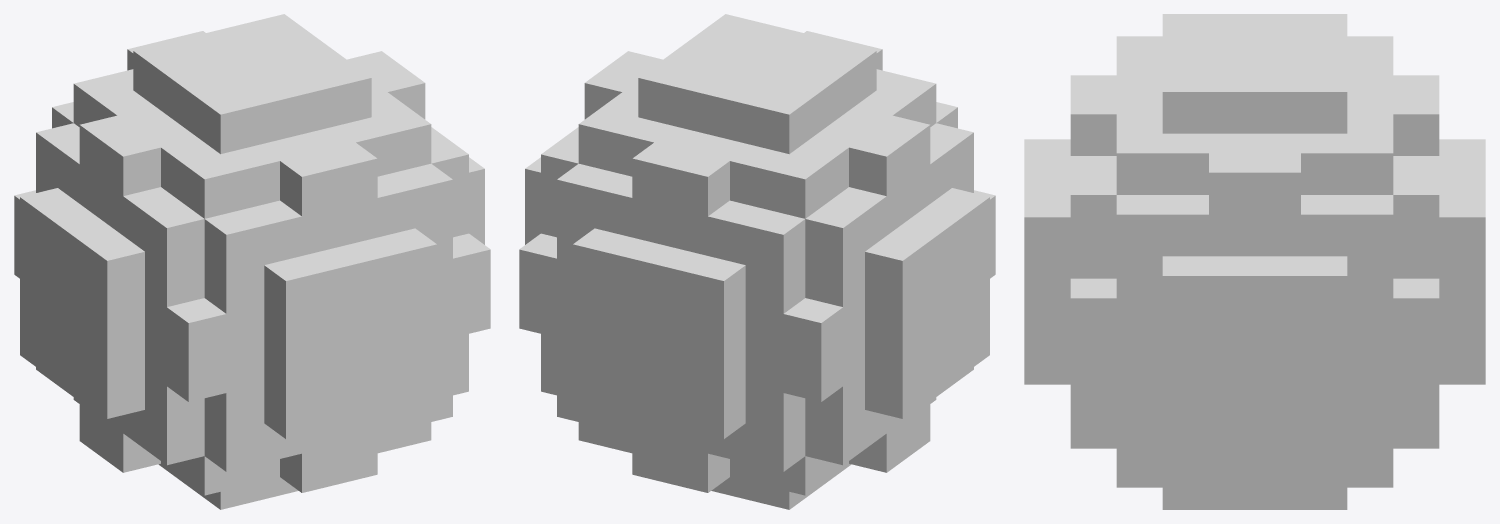
Rendered from Perla.obj.
3 views of the same model, side by side, from view 1: azimuth 30°, elevation 25°; view 2: azimuth 150°, elevation 25°; view 3: azimuth 270°, elevation 25° (orthographic). The views are drawn at different scales.
Bounding box in the file's own units: 1 × 1 × 1.
1 material, 1 textured.
